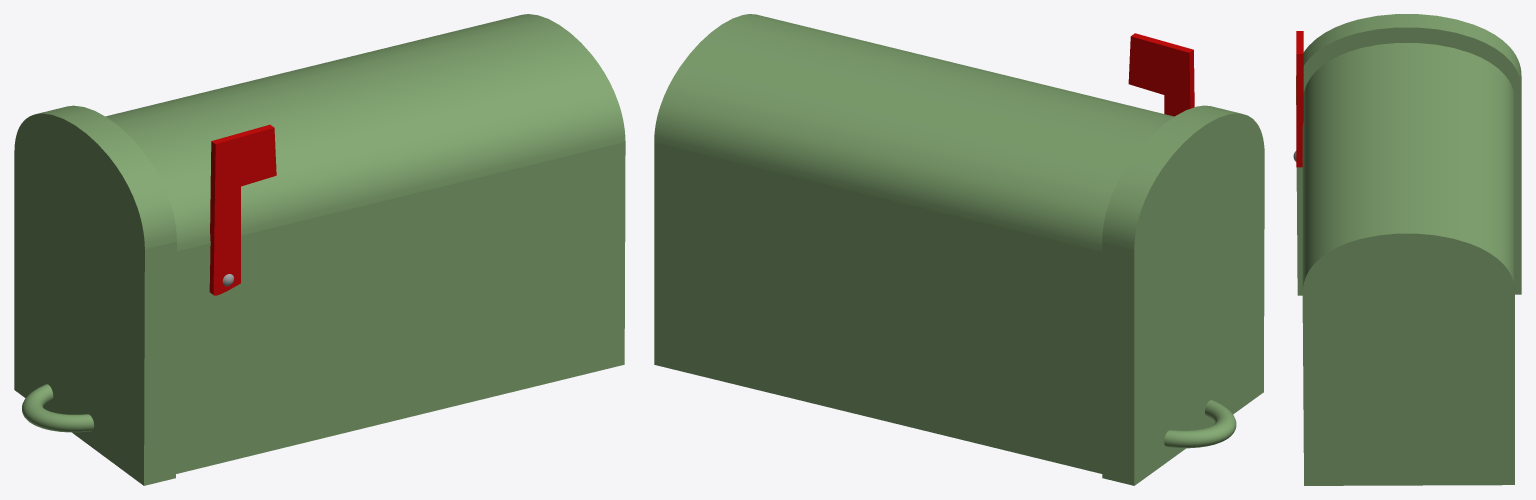
The model's file is CaixaDeCorreio.fbx.
The picture shows the model from 3 angles, left to right: view 1: azimuth 30°, elevation 25°; view 2: azimuth 150°, elevation 25°; view 3: azimuth 270°, elevation 25°; orthographic projection. The views are drawn at different scales.
Parts seen in each view (by area): view 1: Extrude, Cap_2, Extrude_2, Cap_1_2, Torus, Extrude_1; view 2: Extrude, Cap_2, Extrude_2, Cap_2_2, Torus; view 3: Cap_2_3, Extrude, Cap_1, Extrude_2, Extrude_1.
Boxes of the visible parts, x1,y1,x2,y2 form: Extrude: [105, 14, 625, 473]; Cap_2: [14, 113, 144, 485]; Extrude_2: [37, 105, 176, 485]; Cap_1_2: [213, 128, 276, 295]; Torus: [22, 384, 94, 432]; Extrude_1: [209, 124, 274, 294]; Extrude: [654, 14, 1173, 473]; Cap_2: [1134, 113, 1264, 485]; Extrude_2: [1102, 105, 1240, 485]; Cap_2_2: [1128, 36, 1190, 116]; Torus: [1164, 400, 1236, 448]; Cap_2_3: [1302, 233, 1514, 485]; Extrude: [1302, 43, 1514, 290]; Cap_1: [1296, 27, 1521, 295]; Extrude_2: [1296, 14, 1521, 88]; Extrude_1: [1296, 31, 1303, 167].
Bounding box in the file's own units: 349 × 207 × 152.
